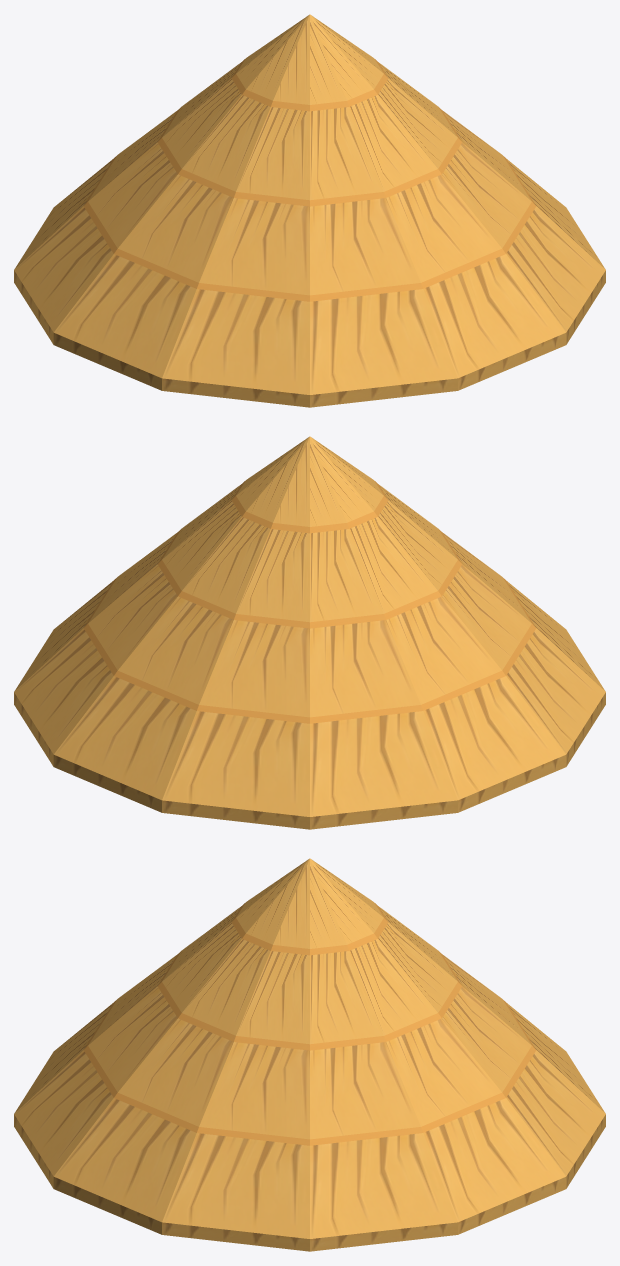
The model's file is rc_wa_roof_thatchcone_6m.glb.
3 views of the same model, one above another, from view 1: azimuth 30°, elevation 25°; view 2: azimuth 150°, elevation 25°; view 3: azimuth 270°, elevation 25° (orthographic).
Visible parts, largest first — view 1: SM_RC_WA_ThatchCone_6m; view 2: SM_RC_WA_ThatchCone_6m; view 3: SM_RC_WA_ThatchCone_6m.
Part boxes in pixels (left/top/right/bottom): SM_RC_WA_ThatchCone_6m: left=14, top=14, right=605, bottom=407; SM_RC_WA_ThatchCone_6m: left=14, top=436, right=605, bottom=829; SM_RC_WA_ThatchCone_6m: left=14, top=858, right=605, bottom=1251.
Bounding box in the file's own units: 6 × 3 × 6.
Materials: 1 (1 with a texture image).
